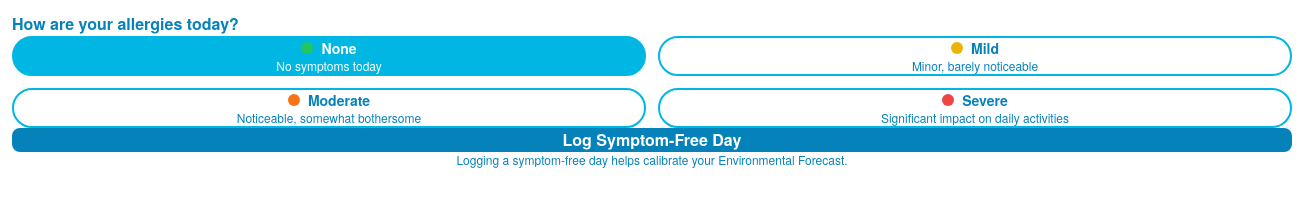
CheckinForm › shows error on network failure
Click the button with test id "checkin-submit" at (652, 140), box [12, 128, 1292, 152]
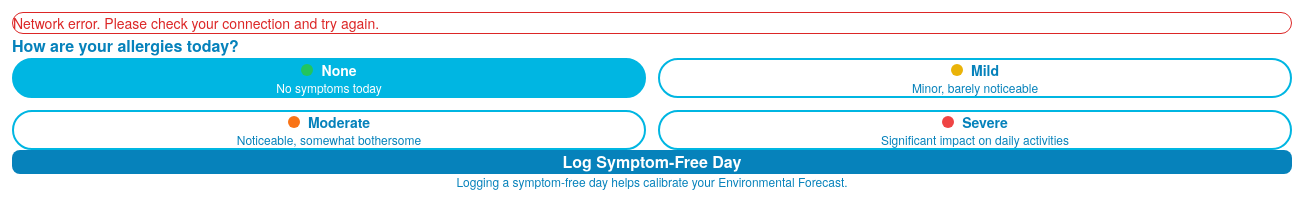
expect the text "Network error. Please check your connection and try again." is shown: met, box [12, 12, 1292, 34]
